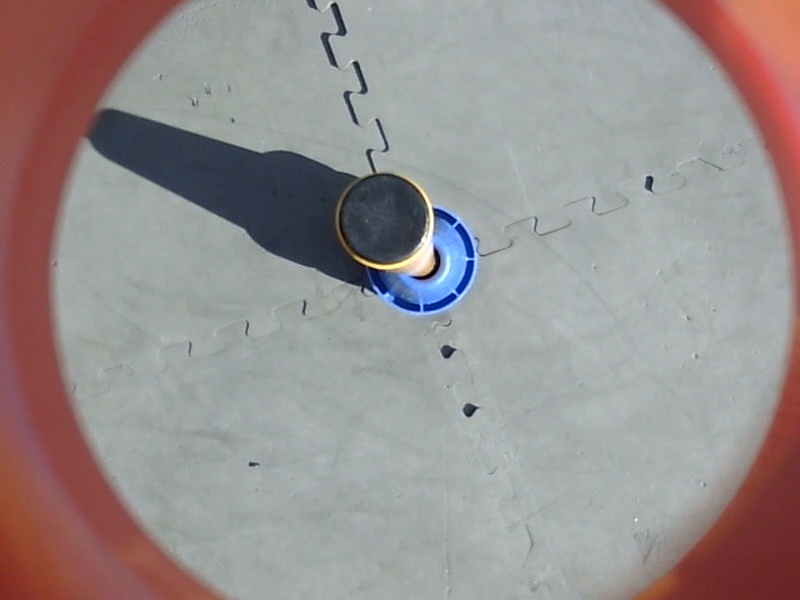tip: (329, 167, 438, 273)
